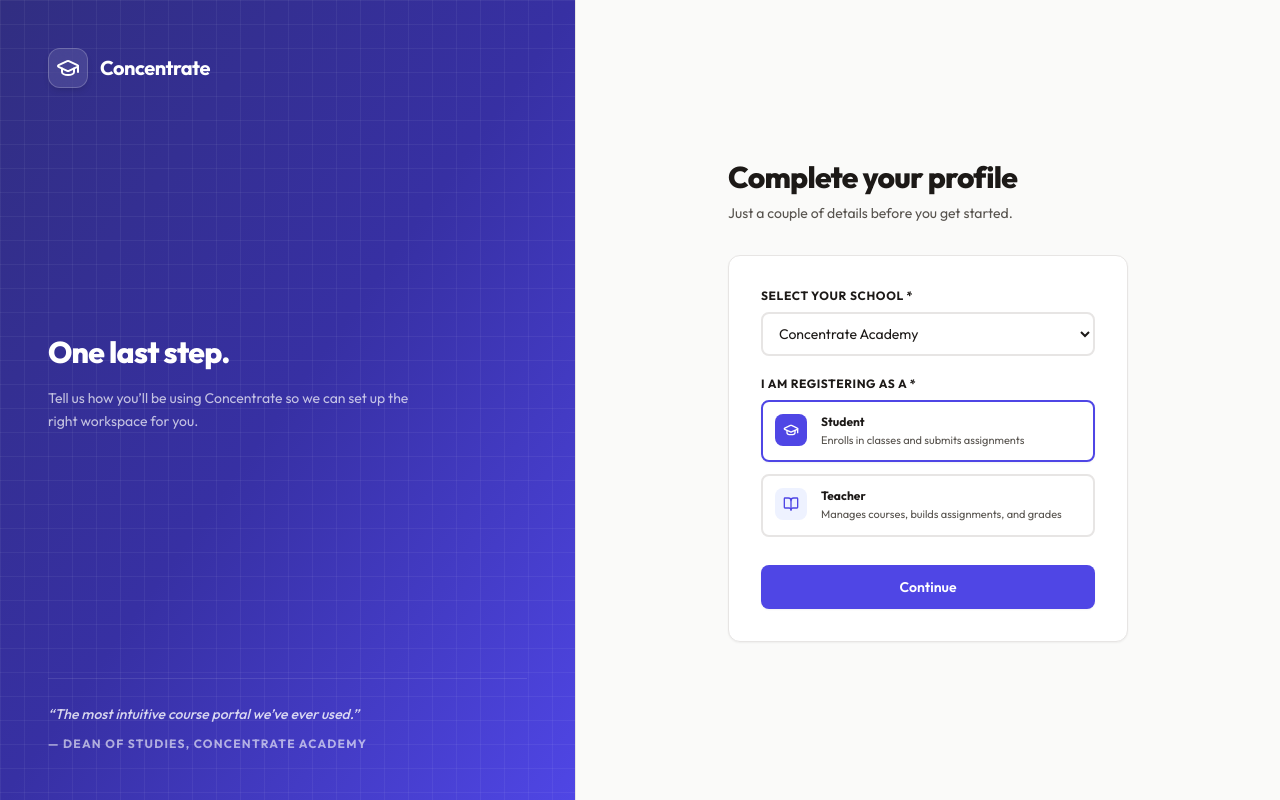
Test: CompleteProfilePage › falls back to a default message when saving the profile fails without an error field
Click the button "Continue" at (928, 586), box x1=761 y1=564 x2=1095 y2=608
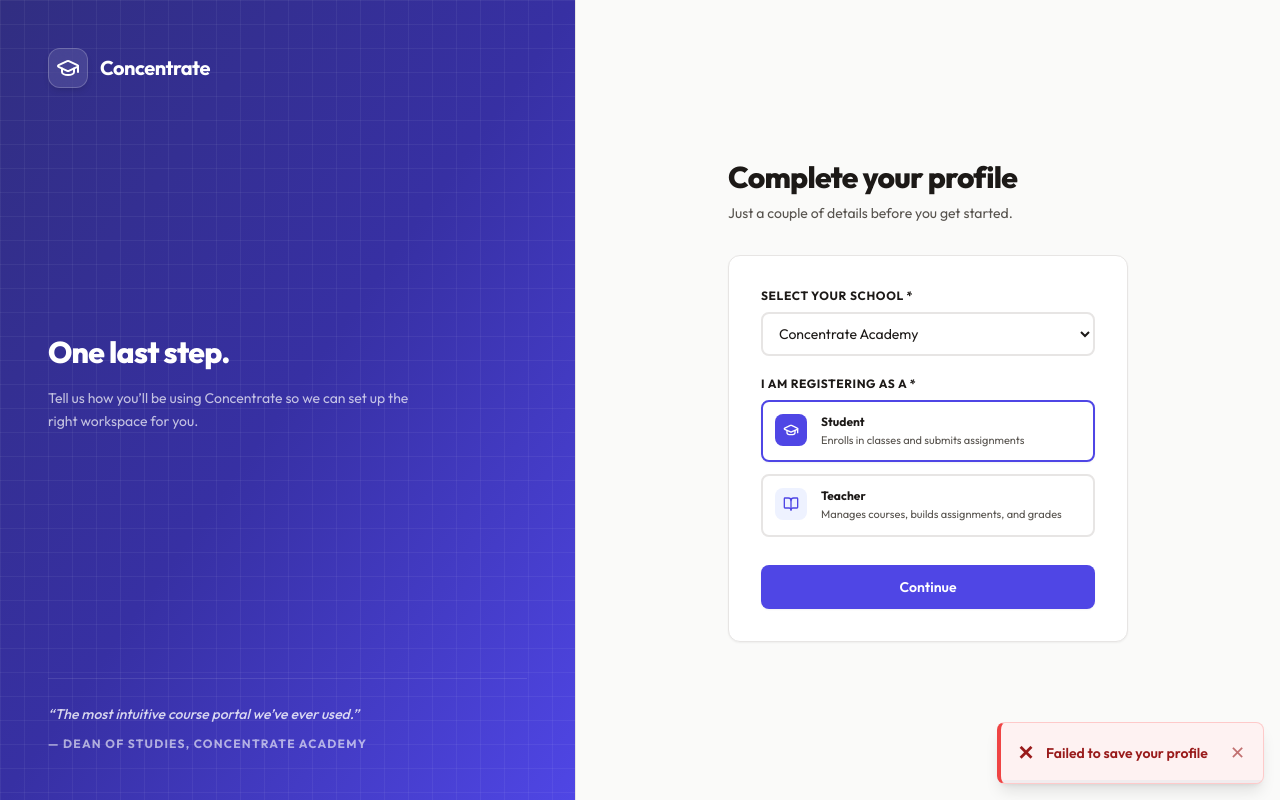
Result: the text "Failed to save your profile" is shown at x1=1046 y1=743 x2=1216 y2=763
